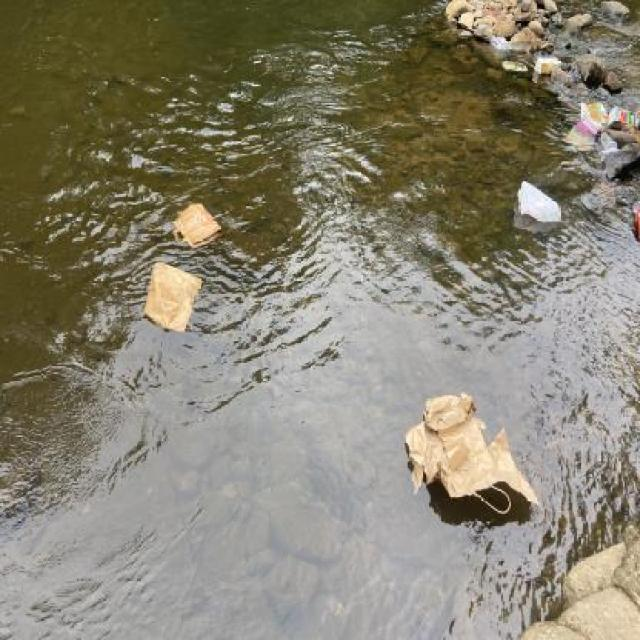Cardboard: (558, 103, 640, 154), (534, 57, 561, 77)
Paper: (400, 388, 546, 529), (137, 262, 205, 338), (164, 195, 230, 260)
Plastic: (509, 172, 571, 236)
